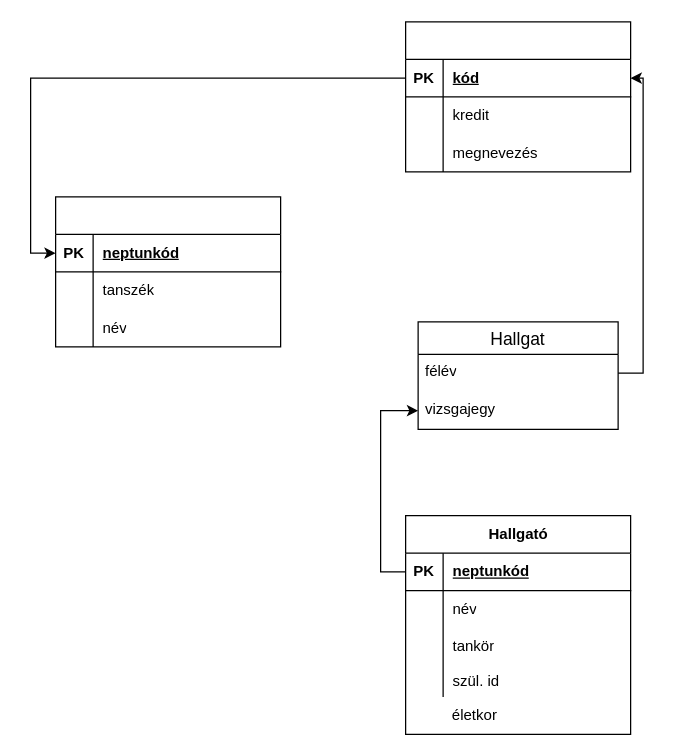
Image size: 675x756. Some labels were removed from this diagram. The shapes that lost their labels are listed below. From the top down, each one's box as (x1, y1, x2, y2) in pixels, then its label:
(404, 21, 631, 172): Tárgy
(54, 196, 281, 347): Oktató
